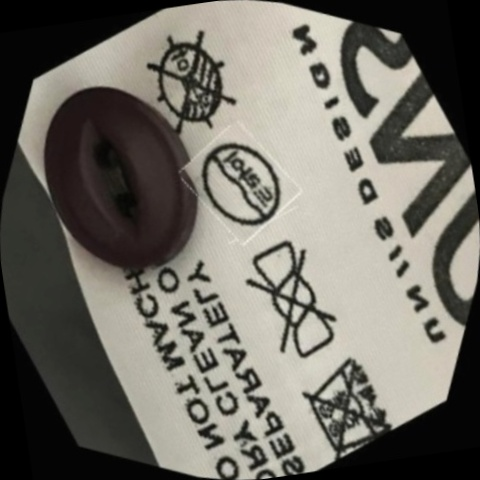DN_dry: (117, 9, 265, 158)
DN_wring: (208, 219, 375, 386)
dry_clean: (172, 116, 307, 253)
hand_wash: (275, 327, 418, 475)
